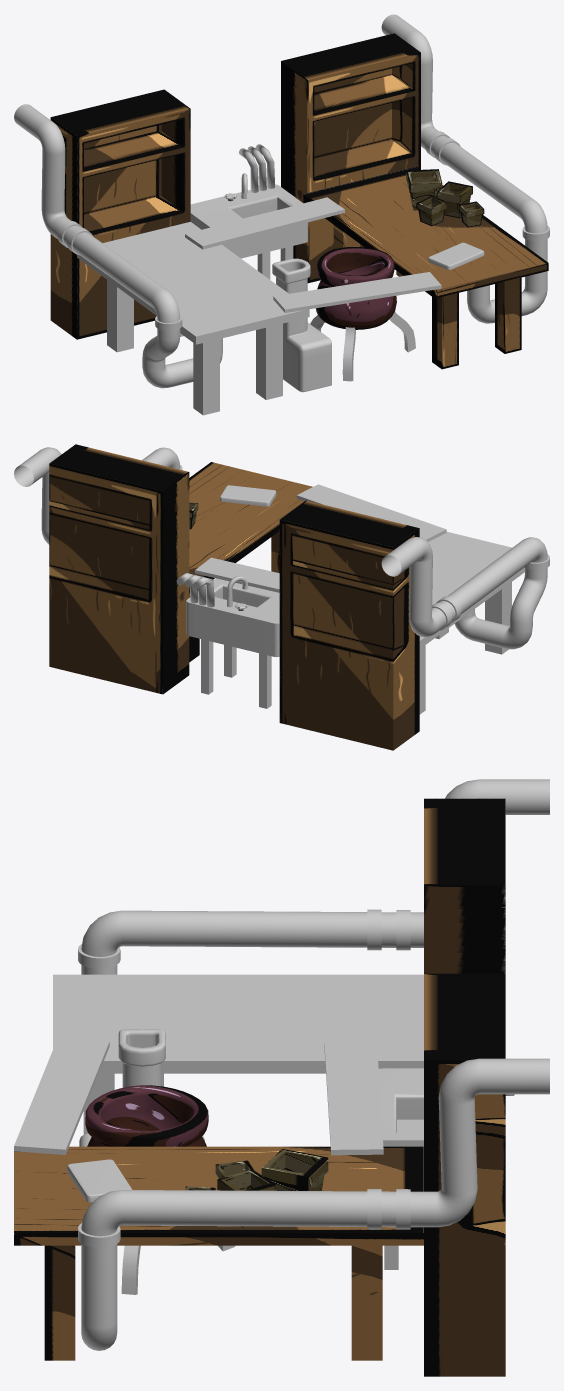
The model's file is Kitchen_Environment.fbx.
3 renders of one model, top to bottom at view 1: azimuth 30°, elevation 25°; view 2: azimuth 150°, elevation 25°; view 3: azimuth 270°, elevation 25°, orthographic. The views are drawn at different scales.
Parts seen in each view (by area): view 1: Left_cabinet, Right_cabinet, Left_table, Right_table, Left_Pipe, Right_Pipe, polySurface5, polySurface4, Furnace, Front_plank, Medium_pot1, Back_plank (+2 smaller); view 2: Right_cabinet, Left_cabinet, Left_Pipe, Right_table, polySurface5, Left_table, Right_Pipe, Front_plank, Back_plank, Chopping_board, polySurface17, polySurface18 (+1 smaller); view 3: Left_table, Right_table, Right_cabinet, Right_Pipe, Left_Pipe, Left_cabinet, polySurface4, Front_plank, Back_plank, Medium_pot1, polySurface5, Furnace (+2 smaller).
Part boxes in pixels (x1,y1,x2,y2): Left_cabinet: (50, 89, 190, 339); Right_cabinet: (281, 33, 420, 283); Left_table: (77, 222, 309, 415); Right_table: (303, 166, 548, 369); Left_Pipe: (14, 104, 222, 388); Right_Pipe: (381, 14, 549, 323); polySurface5: (190, 144, 307, 258); polySurface4: (316, 247, 396, 329); Furnace: (272, 258, 331, 392); Front_plank: (273, 272, 441, 312); Medium_pot1: (406, 169, 484, 227); Back_plank: (185, 197, 344, 249); Right_cabinet: (49, 444, 189, 694); Left_cabinet: (279, 500, 419, 750); Left_Pipe: (381, 537, 549, 649); Right_table: (189, 462, 312, 662); polySurface5: (176, 573, 279, 657); Left_table: (419, 531, 524, 714); Right_Pipe: (14, 447, 182, 544); Front_plank: (296, 484, 446, 541); Back_plank: (195, 557, 279, 592); Chopping_board: (220, 485, 276, 506); polySurface17: (259, 653, 271, 708); polySurface18: (201, 639, 213, 694); Left_table: (53, 974, 423, 1134); Right_table: (14, 1146, 423, 1360); Right_cabinet: (424, 973, 505, 1376); Right_Pipe: (78, 1058, 549, 1350); Left_Pipe: (78, 779, 549, 1086); Left_cabinet: (424, 798, 505, 973); polySurface4: (85, 1085, 208, 1146); Front_plank: (14, 1038, 109, 1154); Back_plank: (324, 1039, 383, 1155); Medium_pot1: (185, 1149, 328, 1227); polySurface5: (378, 1068, 514, 1146); Furnace: (79, 1029, 204, 1146).
Bounding box in the file's own units: 48.87 × 24.92 × 37.23.
